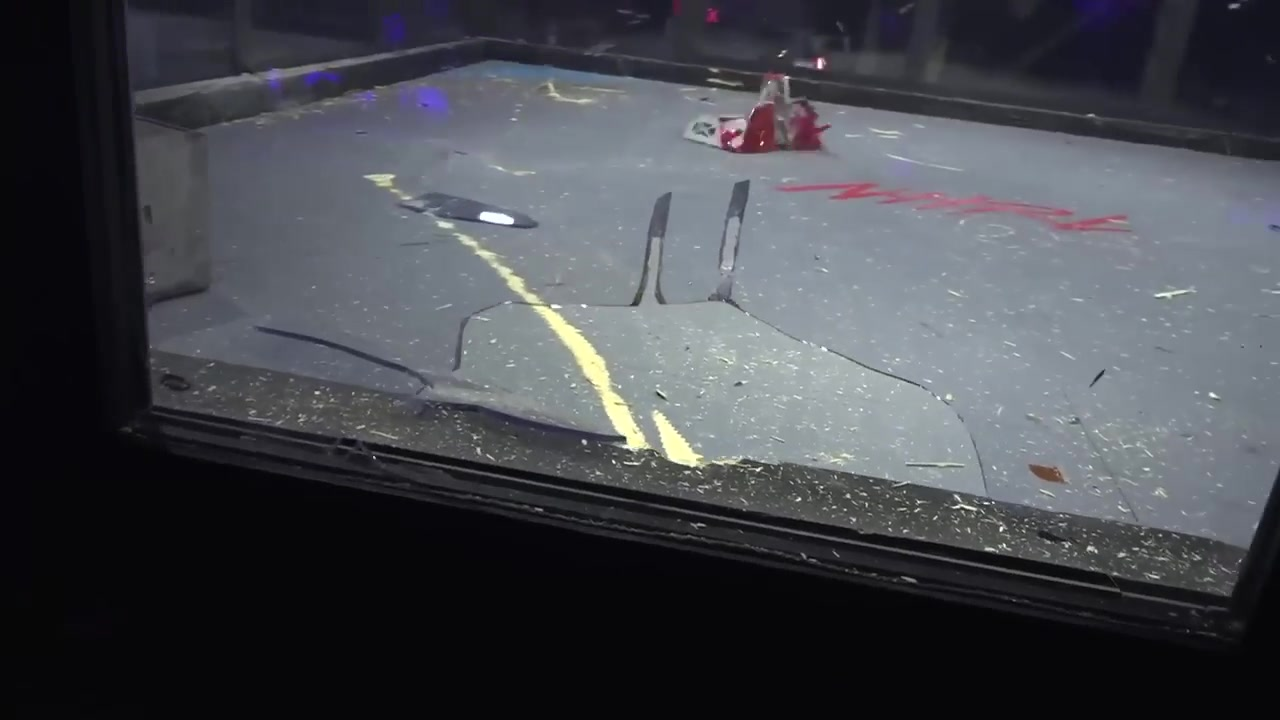combatbot: (686, 79, 830, 155)
debris: (395, 189, 540, 230)
housebot: (128, 113, 212, 308)
